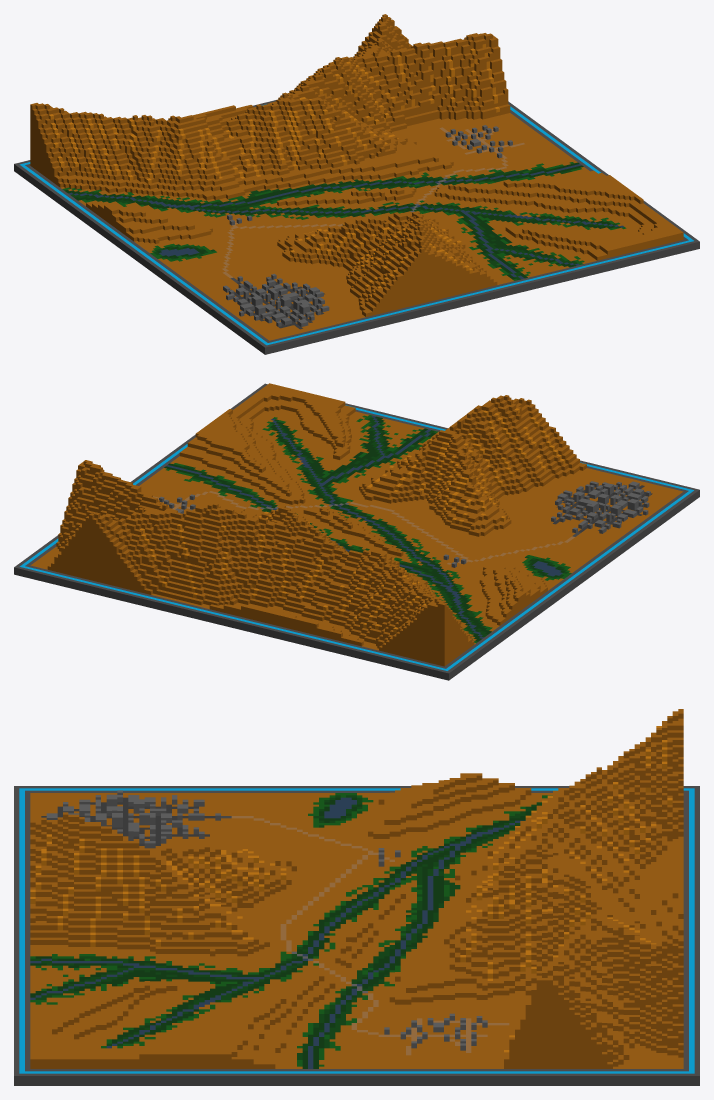
The model's file is Map.obj.
The picture shows the model from 3 angles, top to bottom: view 1: azimuth 30°, elevation 25°; view 2: azimuth 150°, elevation 25°; view 3: azimuth 270°, elevation 25°; orthographic projection. The views are drawn at different scales.
Size of the model in its own units: 12.6 by 2.1 by 12.6.
1 material, 1 textured.
